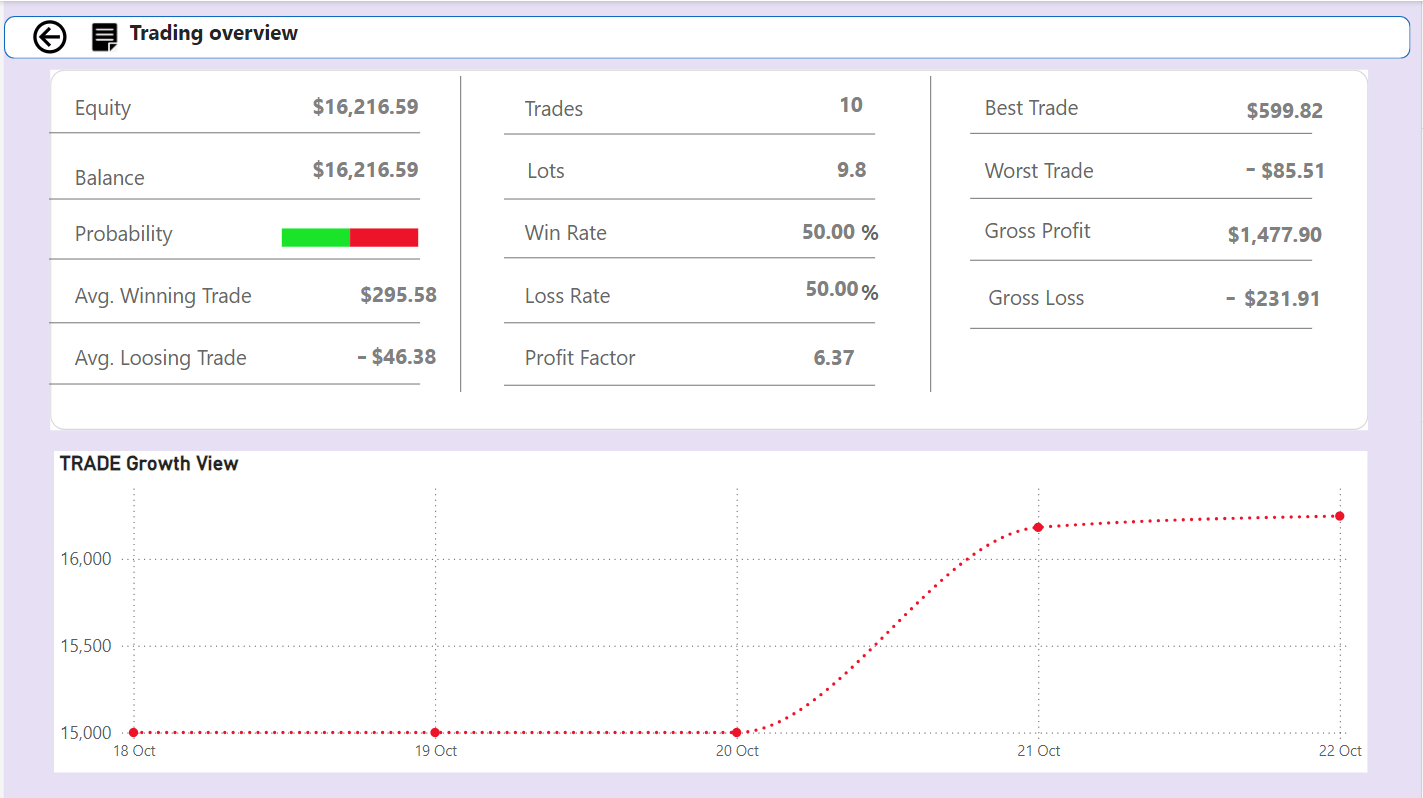

The dashboard page shown, as its layout file describes it:
{"tool":"powerbi","page":{"name":"Page 3","canvas":[1280,720],"ordinal":2},"visuals":[{"type":"shape","box":[41.3,62.7,1190.7,325.3],"z":0},{"type":"shape","box":[406.7,68.3,12,285.3],"z":1000},{"type":"shape","box":[830.7,68.3,12,285.3],"z":2000},{"type":"shape","box":[41.1,112.6,335.6,12.2],"z":3000},{"type":"shape","box":[872.5,171.2,308.9,13.3],"z":4000},{"type":"shape","box":[872.5,112.4,308.9,13.3],"z":5000},{"type":"shape","box":[41.1,172.6,335.6,12.2],"z":6000},{"type":"shape","box":[452.2,172.6,335.6,12.2],"z":7000},{"type":"shape","box":[452.2,113.7,335.6,12.2],"z":8000},{"type":"shape","box":[872.5,287.9,308.9,15.6],"z":9000},{"type":"shape","box":[452.2,284.8,335.6,12.2],"z":10000},{"type":"shape","box":[452.2,225.9,335.6,12.2],"z":11000},{"type":"shape","box":[41.1,227,335.6,12.2],"z":12000},{"type":"shape","box":[872.5,227.9,308.9,12.2],"z":13000},{"type":"shape","box":[41.1,284.8,335.6,12.2],"z":14000},{"type":"shape","box":[452.2,341.5,335.6,12.2],"z":15000},{"type":"shape","box":[41.1,340.4,335.6,12.2],"z":16000},{"type":"textbox","box":[58.9,78.1,80,35.6],"z":17000},{"type":"textbox","box":[465.6,79.2,104.4,36.7],"z":18000},{"type":"card","fields":{"Values":["Sheet1.max permitted loss"]},"box":[273.1,137.6,106.7,33.1],"z":19000},{"type":"card","fields":{"Values":["Sheet1.max permitted loss"]},"box":[273.1,80,106.7,34.1],"z":20000},{"type":"textbox","box":[58.9,141.5,104.4,36.7],"z":21000},{"type":"textbox","box":[58.9,248.1,202.2,36.7],"z":22000},{"type":"textbox","box":[884.1,249.5,126.5,38.4],"z":23000},{"type":"textbox","box":[58.9,191.5,126.7,34.4],"z":24000},{"type":"textbox","box":[58.9,303.7,202.2,36.7],"z":25000},{"type":"card","fields":{"Values":["Sheet1.Avg winning trade"]},"box":[305.6,252.6,101.1,27.8],"z":26000},{"type":"card","fields":{"Values":["Sheet1.Avg. Lossing Trade"]},"box":[325.6,304.8,72.2,36.7],"z":27000},{"type":"card","fields":{"Values":["Sheet1.tRADES taken"]},"box":[742.7,77.3,44,36],"z":28000},{"type":"textbox","box":[465.6,303.7,123.3,36.7],"z":29000},{"type":"textbox","box":[465.6,190.4,94.4,36.7],"z":30000},{"type":"textbox","box":[467.8,135.9,53.3,36.7],"z":31000},{"type":"card","fields":{"Values":["Sheet1.Lot"]},"box":[737.3,136,57.3,37.3],"z":32000},{"type":"card","fields":{"Values":["Sheet1.Win rate"]},"box":[708.5,192.1,73.6,35.2],"z":33000},{"type":"textbox","box":[768.9,190.4,37.8,43.3],"z":34000},{"type":"textbox","box":[465.6,248.1,104.4,36.7],"z":35000},{"type":"textbox","box":[768.9,244.8,37.8,43.3],"z":36000},{"type":"card","fields":{"Values":["Sheet1.loss rate"]},"box":[715.9,243.3,64,36.3],"z":37000},{"type":"card","fields":{"Values":["Sheet1.Profit Factor"]},"box":[704.6,302.6,90.3,41.8],"z":38000},{"type":"textbox","box":[880.3,190.1,130,35.6],"z":39000},{"type":"textbox","box":[880.3,135.7,121.1,36.7],"z":40000},{"type":"textbox","box":[880.3,77.9,107.8,36.7],"z":41000},{"type":"card","fields":{"Values":["Sheet1.Best Trade"]},"box":[1106.9,86.8,101.1,27.8],"z":42000},{"type":"card","fields":{"Values":["Sheet1.Wrost Trade"]},"box":[1114.7,141.2,101.1,27.8],"z":43000},{"type":"card","fields":{"Values":["Sheet1.Gross Profit"]},"box":[1098,199,101.1,27.8],"z":44000},{"type":"card","fields":{"Values":["Sheet1.Gross loss"]},"box":[1097.9,255,115.2,29.9],"z":45000},{"type":"lineChart","title":"TRADE Growth View","fields":{"Category":["Sheet1.Date.Variation.Date Hierarchy.Year","Sheet1.Date.Variation.Date Hierarchy.Quarter","Sheet1.Date.Variation.Date Hierarchy.Month","Sheet1.Date.Variation.Date Hierarchy.Day"],"Y":["Sheet1.Last Balance Entry"]},"box":[45.3,406.7,1186.7,290.7],"z":46000},{"type":"shape","box":[0,13.3,1270.7,38.7],"z":47000},{"type":"textbox","box":[108,10.7,205.3,41.3],"z":48000},{"type":"image","box":[74.7,13.3,33.3,38.7],"z":49000},{"type":"barChart","fields":{"Y":["Sheet1.Win rate","Sheet1.loss rate"]},"box":[246.7,170.7,133.3,80],"z":50000},{"type":"actionButton","box":[21.3,12,46.7,40],"z":51000},{"type":"textbox","box":[312.6,295.6,36.3,49.1],"z":52000},{"type":"textbox","box":[1097.9,243.3,36.3,49.1],"z":53000},{"type":"textbox","box":[1116.1,125.9,36.3,49.1],"z":54000}]}

Visuals, with their boxes in screenshot pixels (x1, y1, x2, y2), scaled from the page's 1280x720 canvas onto the 1423x798 screenshot:
shape: Rect(46, 69, 1370, 430)
shape: Rect(452, 76, 465, 392)
shape: Rect(924, 76, 937, 392)
shape: Rect(46, 125, 419, 138)
shape: Rect(970, 190, 1313, 204)
shape: Rect(970, 125, 1313, 139)
shape: Rect(46, 191, 419, 205)
shape: Rect(503, 191, 876, 205)
shape: Rect(503, 126, 876, 140)
shape: Rect(970, 319, 1313, 336)
shape: Rect(503, 316, 876, 329)
shape: Rect(503, 250, 876, 264)
shape: Rect(46, 252, 419, 265)
shape: Rect(970, 253, 1313, 266)
shape: Rect(46, 316, 419, 329)
shape: Rect(503, 378, 876, 392)
shape: Rect(46, 377, 419, 391)
textbox: Rect(65, 87, 154, 126)
textbox: Rect(518, 88, 634, 128)
card - Sheet1.max permitted loss: Rect(304, 153, 422, 189)
card - Sheet1.max permitted loss: Rect(304, 89, 422, 126)
textbox: Rect(65, 157, 182, 198)
textbox: Rect(65, 275, 290, 316)
textbox: Rect(983, 277, 1124, 319)
textbox: Rect(65, 212, 206, 250)
textbox: Rect(65, 337, 290, 377)
card - Sheet1.Avg winning trade: Rect(340, 280, 452, 311)
card - Sheet1.Avg. Lossing Trade: Rect(362, 338, 442, 378)
card - Sheet1.tRADES taken: Rect(826, 86, 875, 126)
textbox: Rect(518, 337, 655, 377)
textbox: Rect(518, 211, 623, 252)
textbox: Rect(520, 151, 579, 191)
card - Sheet1.Lot: Rect(820, 151, 883, 192)
card - Sheet1.Win rate: Rect(788, 213, 869, 252)
textbox: Rect(855, 211, 897, 259)
textbox: Rect(518, 275, 634, 316)
textbox: Rect(855, 271, 897, 319)
card - Sheet1.loss rate: Rect(796, 270, 867, 310)
card - Sheet1.Profit Factor: Rect(783, 335, 884, 382)
textbox: Rect(979, 211, 1123, 250)
textbox: Rect(979, 150, 1113, 191)
textbox: Rect(979, 86, 1098, 127)
card - Sheet1.Best Trade: Rect(1231, 96, 1343, 127)
card - Sheet1.Wrost Trade: Rect(1239, 156, 1352, 187)
card - Sheet1.Gross Profit: Rect(1221, 221, 1333, 251)
card - Sheet1.Gross loss: Rect(1221, 283, 1349, 316)
"TRADE Growth View" lineChart: Rect(50, 451, 1370, 773)
shape: Rect(0, 15, 1413, 58)
textbox: Rect(120, 12, 348, 58)
image: Rect(83, 15, 120, 58)
barChart - Sheet1.Win rate x Sheet1.loss rate: Rect(274, 189, 422, 278)
actionButton: Rect(24, 13, 76, 58)
textbox: Rect(348, 328, 388, 382)
textbox: Rect(1221, 270, 1261, 324)
textbox: Rect(1241, 140, 1281, 194)
